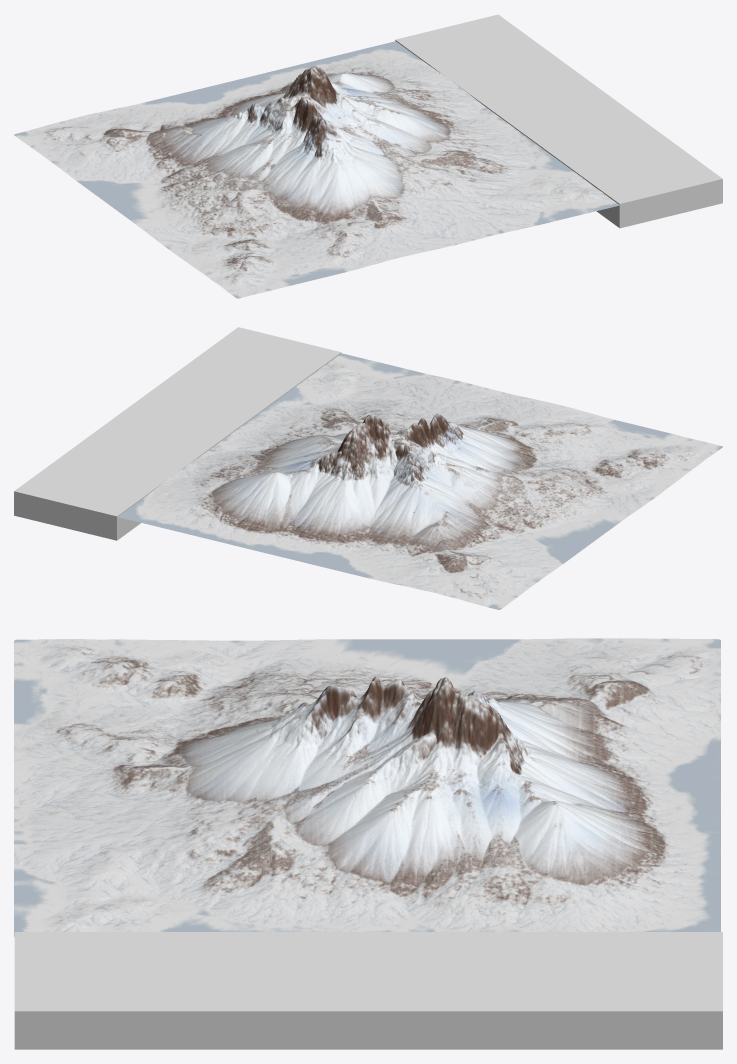
The model's file is level.glb.
The picture shows the model from 3 angles, top to bottom: view 1: azimuth 30°, elevation 25°; view 2: azimuth 150°, elevation 25°; view 3: azimuth 270°, elevation 25°; orthographic projection. The views are drawn at different scales.
Visible parts, largest first — view 1: Rocky Mountain Terrain Landscape, Cube; view 2: Rocky Mountain Terrain Landscape, Cube; view 3: Rocky Mountain Terrain Landscape, Cube.
Part boxes in pixels (<box>): Rocky Mountain Terrain Landscape: <box>14,41,623,298</box>; Cube: <box>395,14,722,228</box>; Rocky Mountain Terrain Landscape: <box>118,353,722,609</box>; Cube: <box>14,327,341,540</box>; Rocky Mountain Terrain Landscape: <box>14,638,720,936</box>; Cube: <box>14,932,722,1049</box>.
Bounding box in the file's own units: 81.1 × 16.4 × 65.
Materials: 1 (1 with a texture image).
